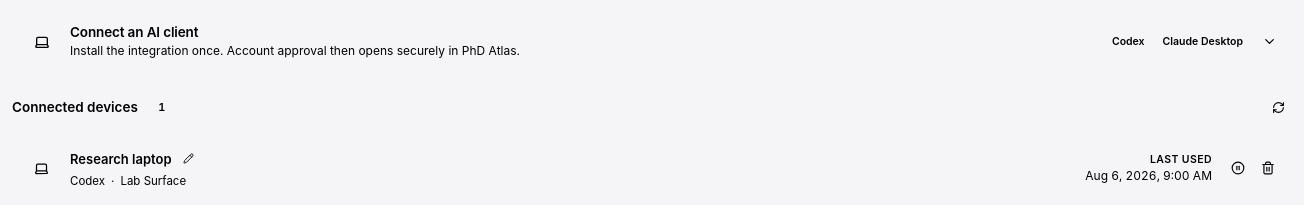
Test: CodexAuthorizationManager › renames a connection in place
This screenshot has width=1304, height=205.
Step 1. Click the button named "Rename Research laptop" → (189, 159), box [178,148,200,170]
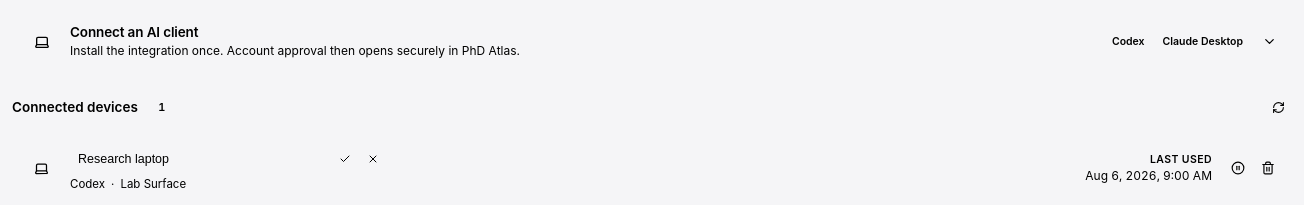
Step 2. Replace the text in the field named "Authorization name" with "Office desktop" → (208, 159), box [70,145,346,173]
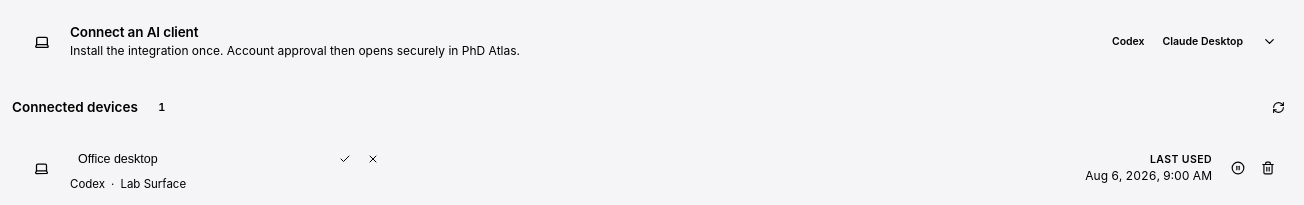
Step 3. Click the button named "Save name" → (345, 159), box [332,146,358,172]
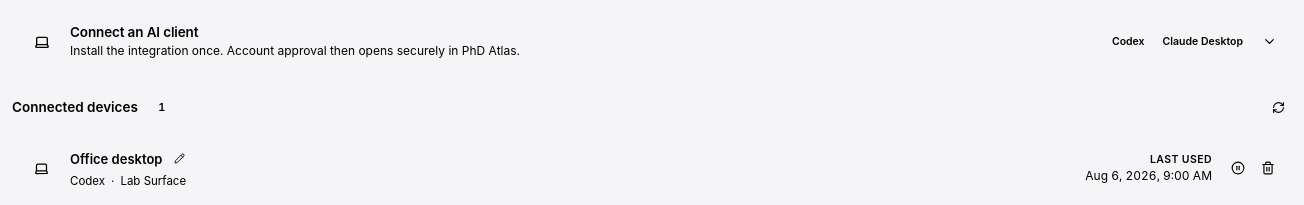
Now the text "Office desktop" is shown, box [70,151,162,167]
